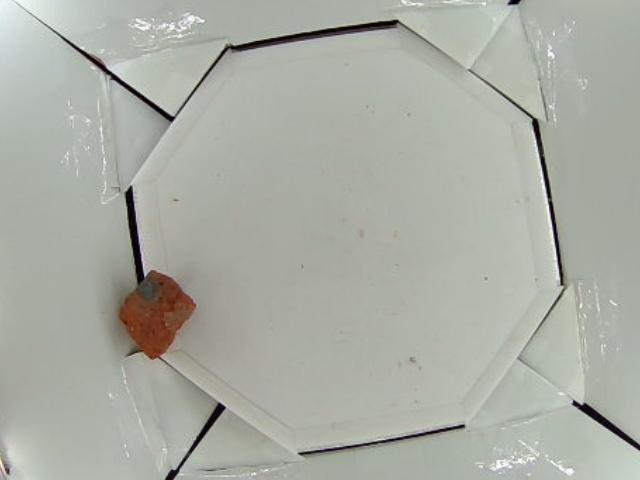Brisk: (118, 271, 195, 361)
